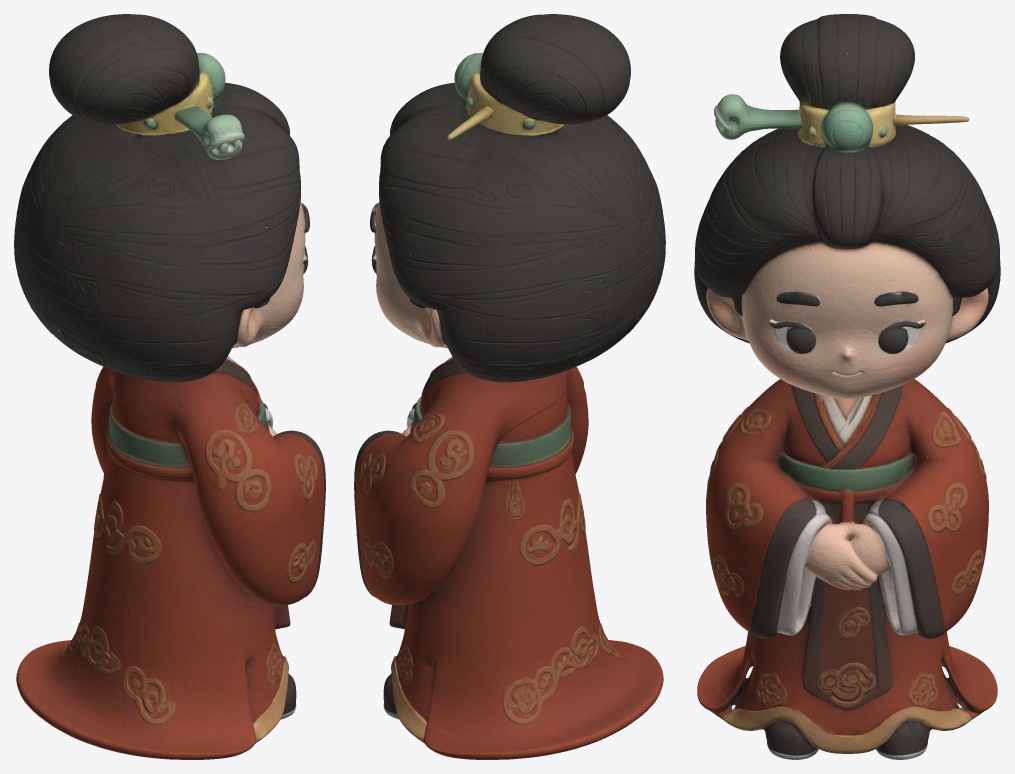
3 renders of one model, left to right at view 1: azimuth 30°, elevation 25°; view 2: azimuth 150°, elevation 25°; view 3: azimuth 270°, elevation 25°, orthographic. The views are drawn at different scales.
Visible parts, largest first — view 1: tripo_node_a18d83a1-009d-4ad6-bdf7-3942ba24f5bb; view 2: tripo_node_a18d83a1-009d-4ad6-bdf7-3942ba24f5bb; view 3: tripo_node_a18d83a1-009d-4ad6-bdf7-3942ba24f5bb.
Part boxes in pixels (x1,y1,x2,y2): tripo_node_a18d83a1-009d-4ad6-bdf7-3942ba24f5bb: (14, 14, 325, 759); tripo_node_a18d83a1-009d-4ad6-bdf7-3942ba24f5bb: (354, 14, 665, 759); tripo_node_a18d83a1-009d-4ad6-bdf7-3942ba24f5bb: (694, 14, 1000, 759).
Bounding box in the file's own units: 0.3826 × 1 × 0.4134.
Materials: 1 (1 with a texture image).
